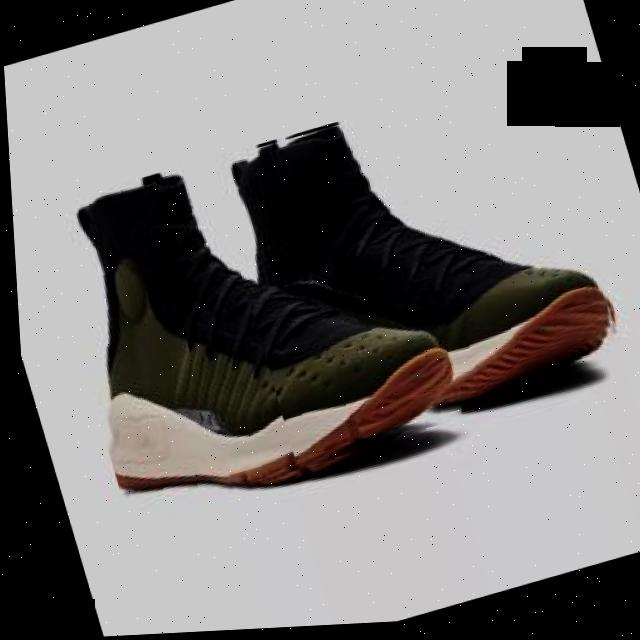shoe: (30, 109, 474, 528), (202, 69, 629, 465)
